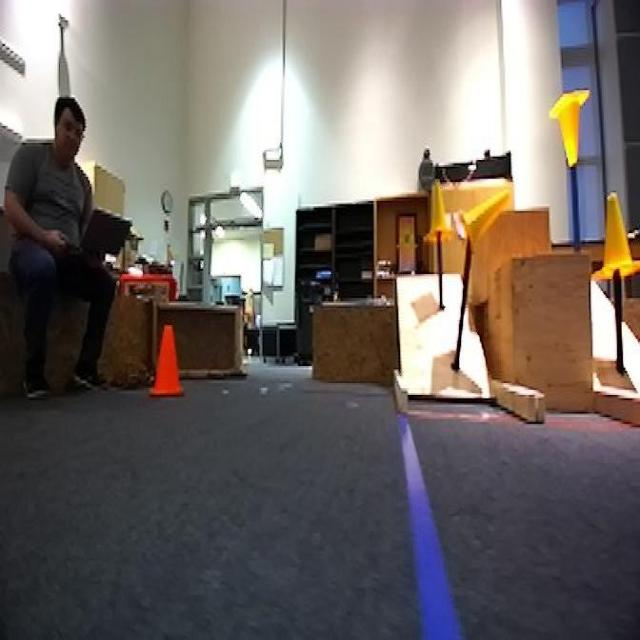frc_cone: (587, 197, 639, 293), (550, 87, 590, 162), (462, 186, 510, 243), (429, 182, 456, 247)
